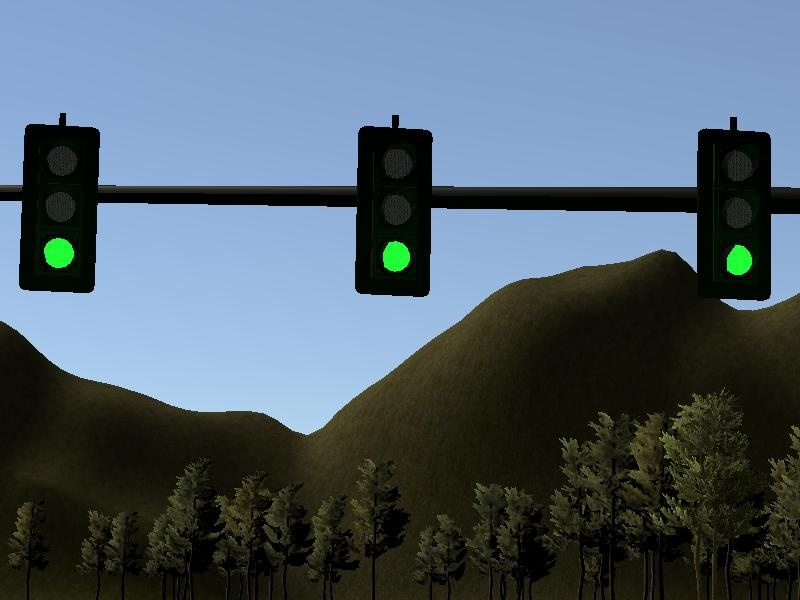GREEN: (681, 121, 781, 309), (347, 116, 438, 305), (13, 108, 101, 301)
